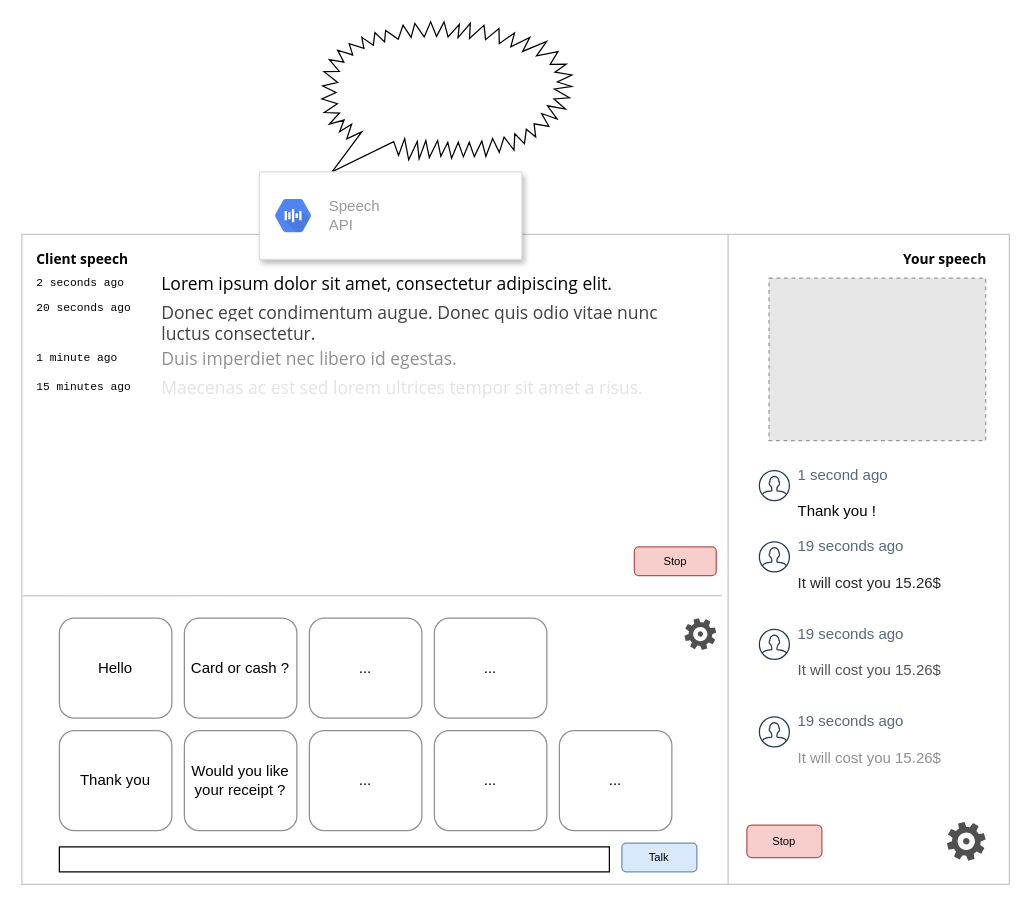
Some shapes in this 1031 by 908 pixel diagram are drawn without their labels. Grey dashed boxes stand in for pictures. Here are the shapes that lost their labels. From the top down, the centre of each, then its label:
At point 446,96: "*client choosing things*".
At point 333,859: "My custom sentence...".
